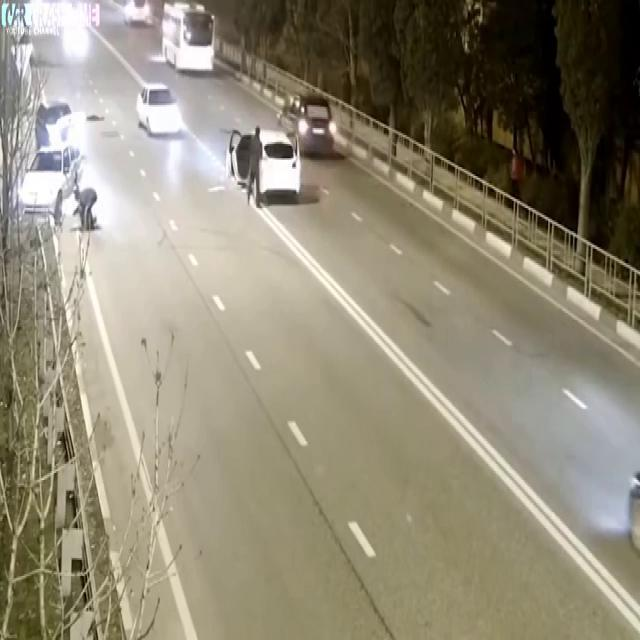accident: (16, 103, 74, 219)
